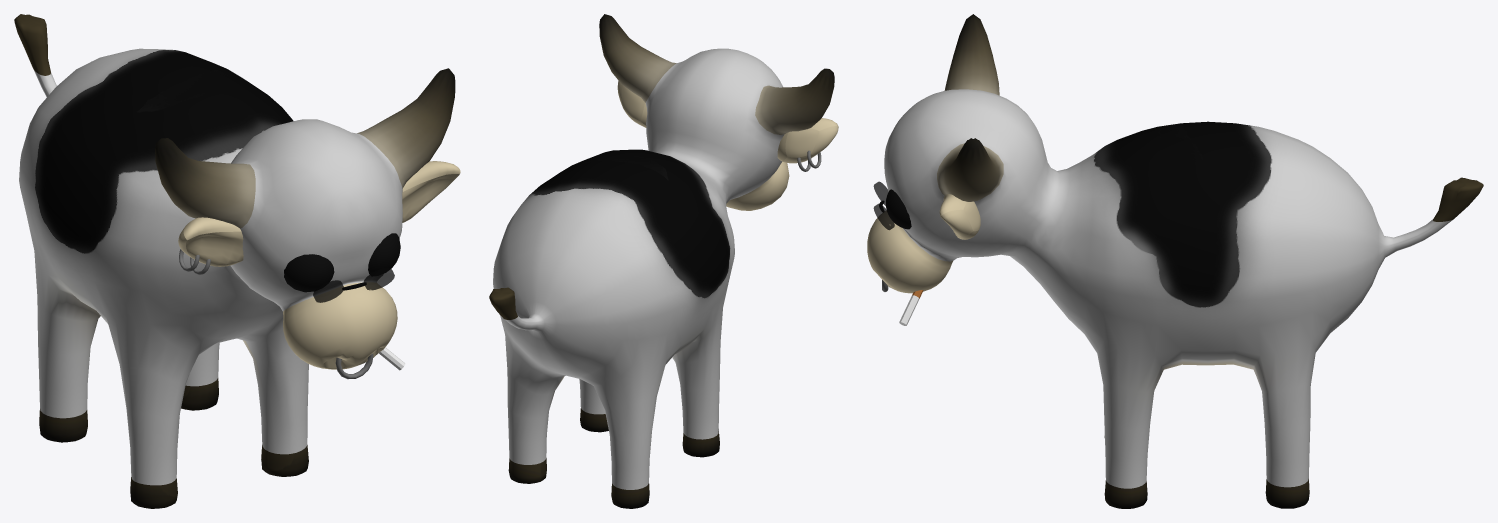
File: Cow - badboy.fbx
3 views of the same model, side by side, from view 1: azimuth 30°, elevation 25°; view 2: azimuth 150°, elevation 25°; view 3: azimuth 270°, elevation 25° (orthographic). The views are drawn at different scales.
Visible parts, largest first — view 1: cow, ear_right, ear_left, eyeball_right, eyeball_left, pCylinder1; view 2: cow, ear_right, ear_left; view 3: cow, ear_left.
Part boxes in pixels (x1=…): cow: x1=14, y1=14, x2=455, y2=508; ear_right: x1=178, y1=217, x2=243, y2=266; ear_left: x1=402, y1=161, x2=460, y2=222; eyeball_right: x1=284, y1=254, x2=334, y2=292; eyeball_left: x1=368, y1=233, x2=400, y2=276; pCylinder1: x1=313, y1=280, x2=344, y2=302; cow: x1=489, y1=14, x2=834, y2=508; ear_right: x1=777, y1=118, x2=838, y2=163; ear_left: x1=617, y1=81, x2=647, y2=127; cow: x1=867, y1=14, x2=1483, y2=508; ear_left: x1=939, y1=194, x2=980, y2=239.
Size of the model in its own units: 2.35 by 3.37 by 4.73.
